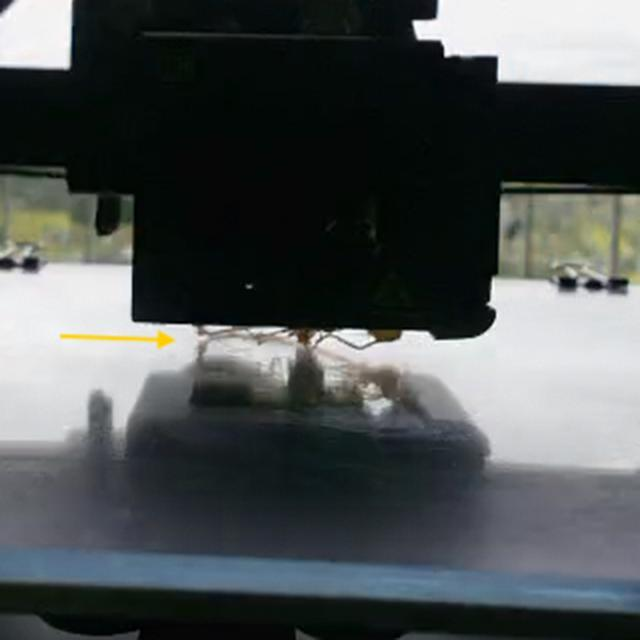Spaghetti: (196, 322, 381, 352)
